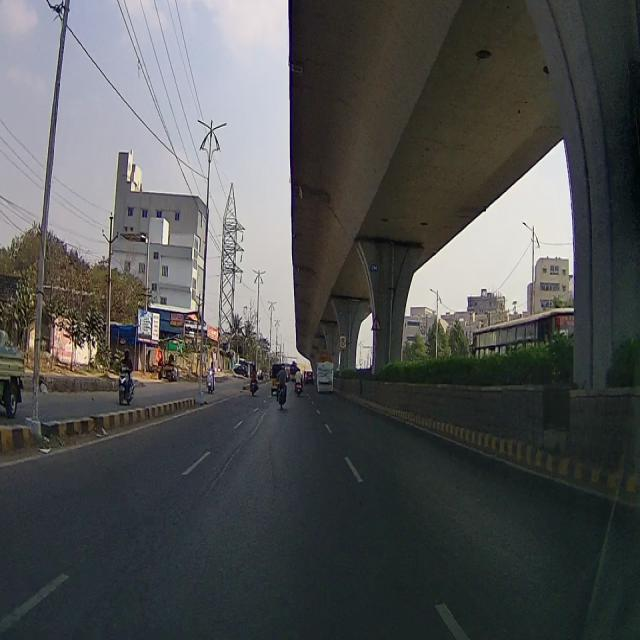gap-in-median: (372, 313, 382, 332)
